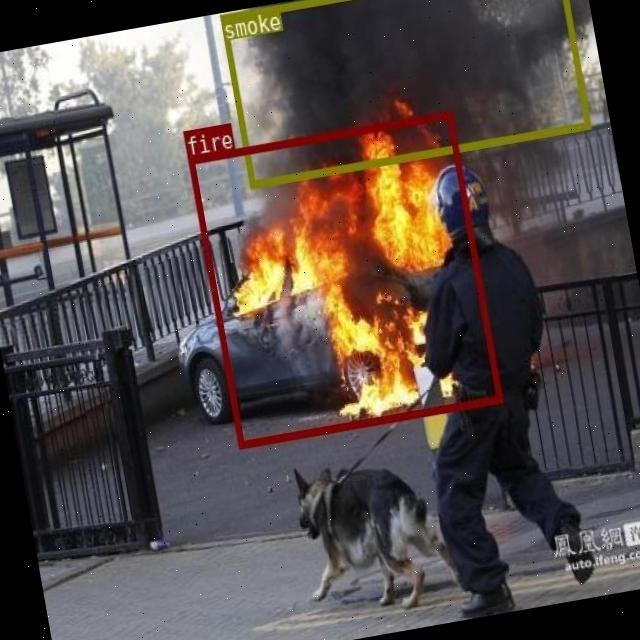fire: (186, 110, 502, 448)
smoke: (219, 0, 588, 186)
